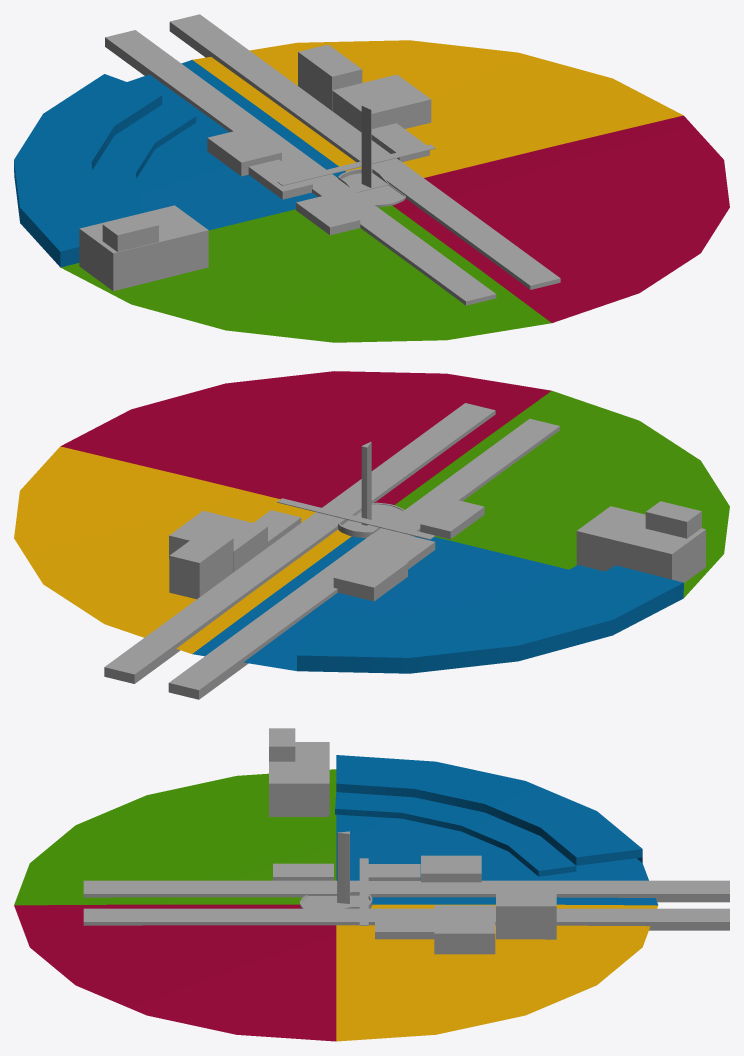
Rendered from PlaceHolder01.fbx.
3 views of the same model, one above another, from view 1: azimuth 30°, elevation 25°; view 2: azimuth 150°, elevation 25°; view 3: azimuth 270°, elevation 25° (orthographic). The views are drawn at different scales.
Visible parts, largest first — view 1: pCylinder1, pCylinder2, pCube5, pCube4, pCube13, pCube8, pCube9, pCube11, pCube14, pCube1, pCube10, pCube7 (+3 smaller); view 2: pCylinder1, pCylinder2, pCube5, pCube4, pCube13, pCube9, pCube8, pCube11, pCube14, pCube1, pCube10, pCube12 (+3 smaller); view 3: pCylinder1, pCylinder2, pCube4, pCube5, pCube13, pCube8, pCube9, pCube11, pCube7, pCube1, pCube3, pCube14 (+3 smaller).
Part boxes in pixels (box(x1,y1,x2,y2)): pCylinder1: box(61, 40, 729, 342); pCylinder2: box(14, 74, 196, 267); pCube5: box(169, 14, 560, 289); pCube4: box(105, 30, 496, 305); pCube13: box(79, 205, 208, 291); pCube8: box(332, 74, 431, 132); pCube9: box(298, 44, 362, 110); pCube11: box(207, 128, 281, 176); pCube14: box(102, 214, 158, 251); pCube1: box(296, 195, 360, 235); pCube10: box(248, 159, 312, 199); pCube7: box(371, 123, 429, 162); pCylinder1: box(14, 371, 729, 670); pCylinder2: box(297, 565, 683, 673); pCube5: box(104, 403, 495, 683); pCube4: box(168, 418, 559, 699); pCube13: box(576, 506, 705, 582); pCube9: box(169, 531, 233, 599); pCube8: box(169, 510, 267, 571); pCube11: box(333, 553, 407, 601); pCube14: box(645, 501, 701, 538); pCube1: box(420, 499, 484, 539); pCube10: box(377, 534, 435, 569); pCube12: box(277, 498, 434, 539); pCylinder1: box(14, 769, 658, 1041); pCylinder2: box(335, 755, 642, 876); pCube4: box(83, 880, 729, 902); pCube5: box(83, 908, 729, 930); pCube13: box(269, 742, 329, 816); pCube8: box(434, 905, 495, 954); pCube9: box(496, 893, 556, 939); pCube11: box(421, 855, 481, 882); pCube7: box(375, 919, 434, 939); pCube1: box(273, 863, 333, 880); pCube3: box(337, 831, 349, 903); pCube14: box(269, 728, 295, 761).
Size of the model in its own units: 431 by 56.78 by 478.
